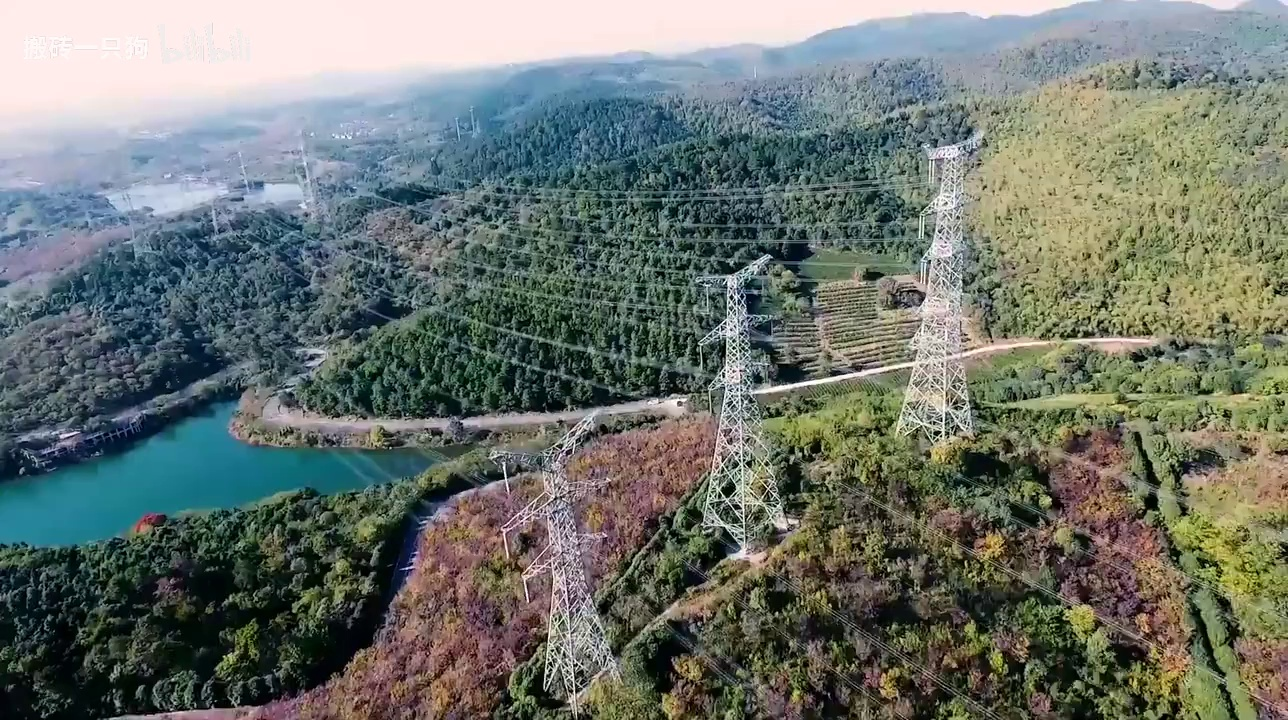tower_body: (466, 402, 642, 716), (679, 249, 814, 557), (877, 126, 1005, 450)
tower_foot: (691, 484, 798, 548), (884, 386, 989, 445), (534, 650, 632, 711)
tower_head: (472, 411, 614, 475), (687, 254, 777, 296), (911, 130, 991, 171)
